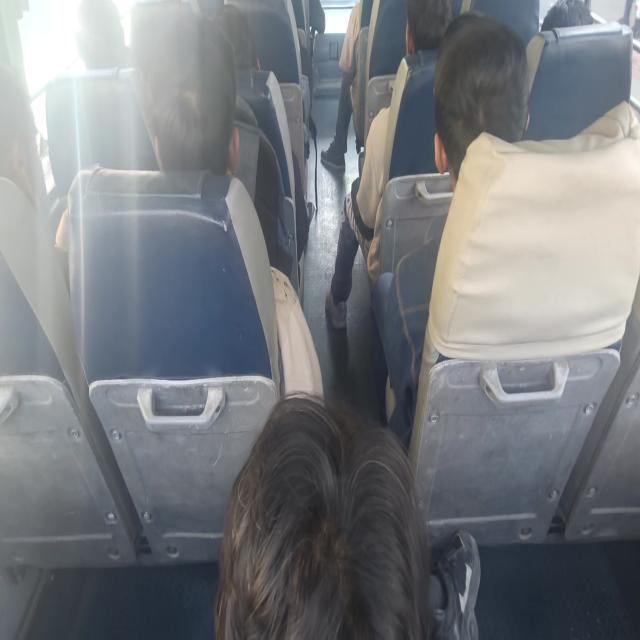person: (408, 12, 640, 453), (131, 10, 325, 399), (370, 11, 530, 450), (214, 391, 481, 638), (325, 0, 452, 330), (132, 12, 240, 175), (320, 0, 406, 173), (320, 1, 363, 172), (74, 0, 130, 70), (540, 0, 594, 31)
